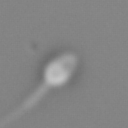normal: (1, 83, 49, 128)
